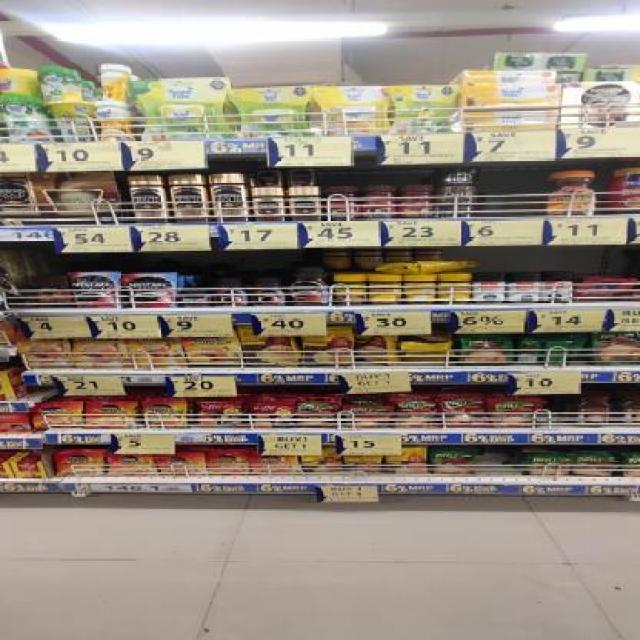Coffee: (547, 171, 595, 217), (74, 331, 130, 367), (17, 332, 74, 366), (187, 329, 238, 365), (132, 334, 183, 368), (126, 273, 174, 309), (129, 175, 165, 222), (71, 272, 118, 308), (288, 267, 332, 305), (211, 174, 244, 221), (172, 175, 205, 222), (144, 400, 185, 428), (89, 400, 133, 426), (35, 403, 80, 428), (253, 188, 284, 222), (289, 187, 319, 221), (58, 451, 100, 475), (207, 452, 248, 476), (251, 278, 284, 305), (159, 454, 201, 475), (111, 454, 151, 475), (252, 455, 296, 474), (216, 280, 247, 306), (178, 290, 211, 305)
